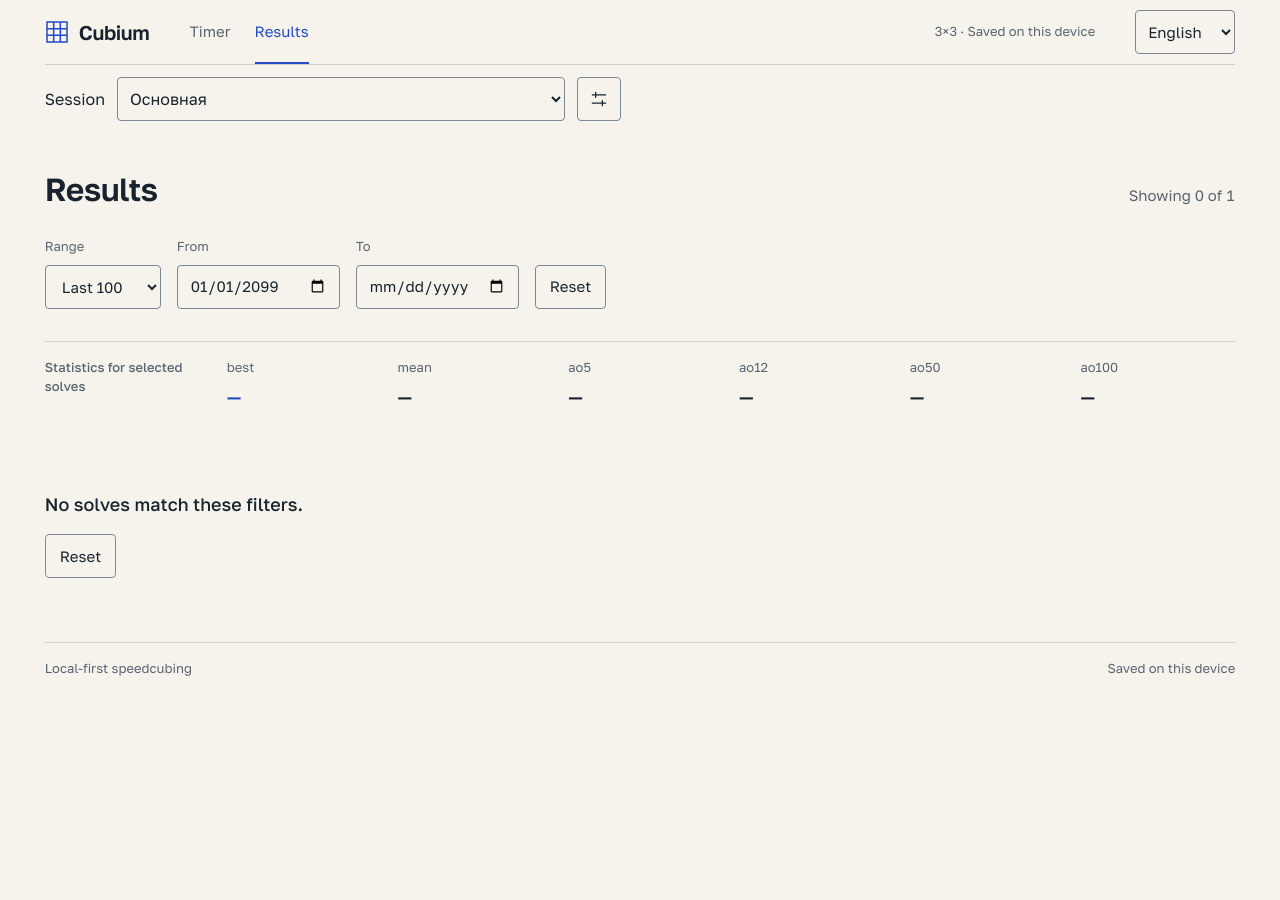
Scenario: distinguishes a filtered empty range and Reset restores the chart
Expected: the heading "No solves match these filters." is shown, [45, 493, 303, 515]
Step 1. Click the button "Reset" below "To" → (570, 286), box [535, 264, 606, 308]
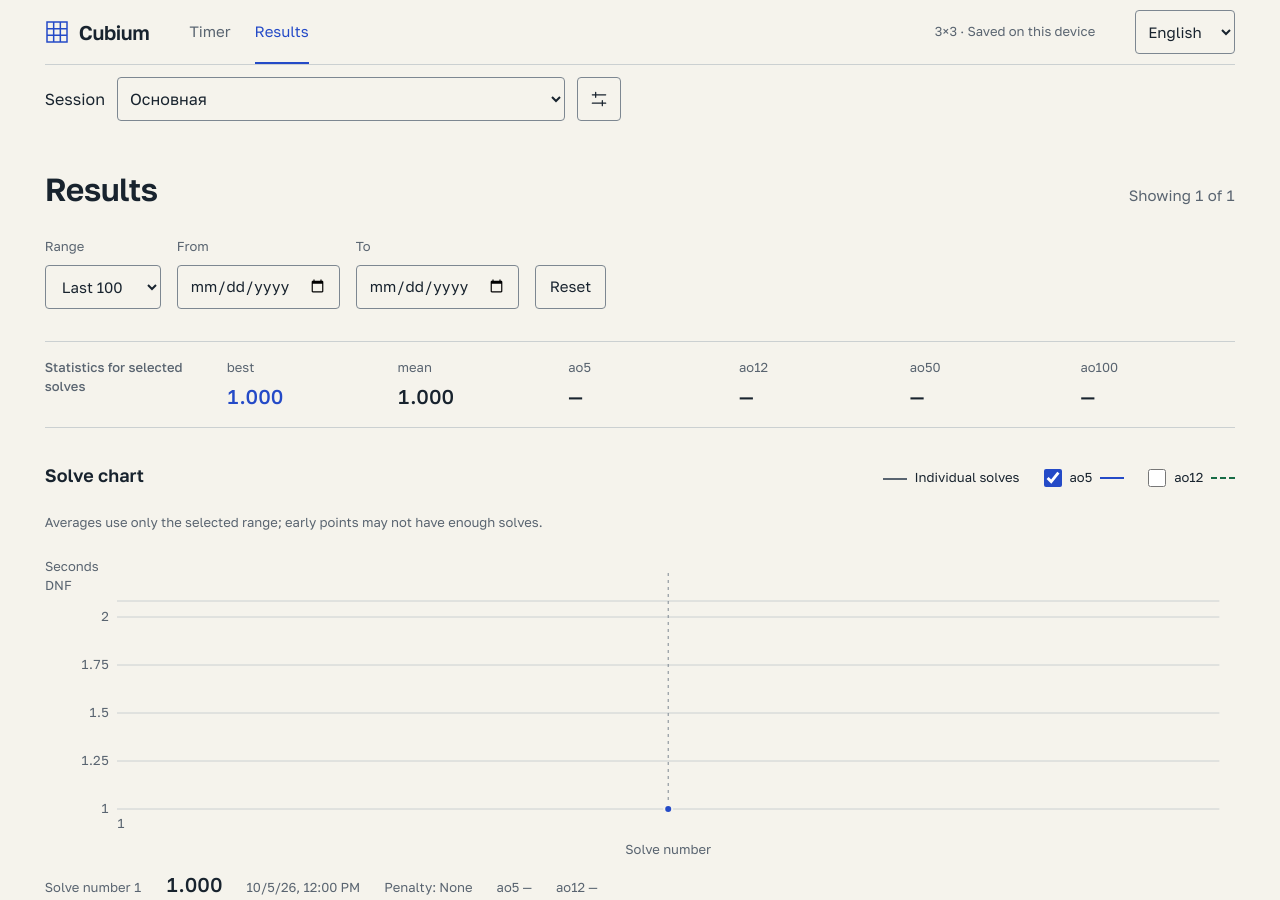
Expected: the element named "Solve chart" is shown, [45, 557, 1235, 857]
